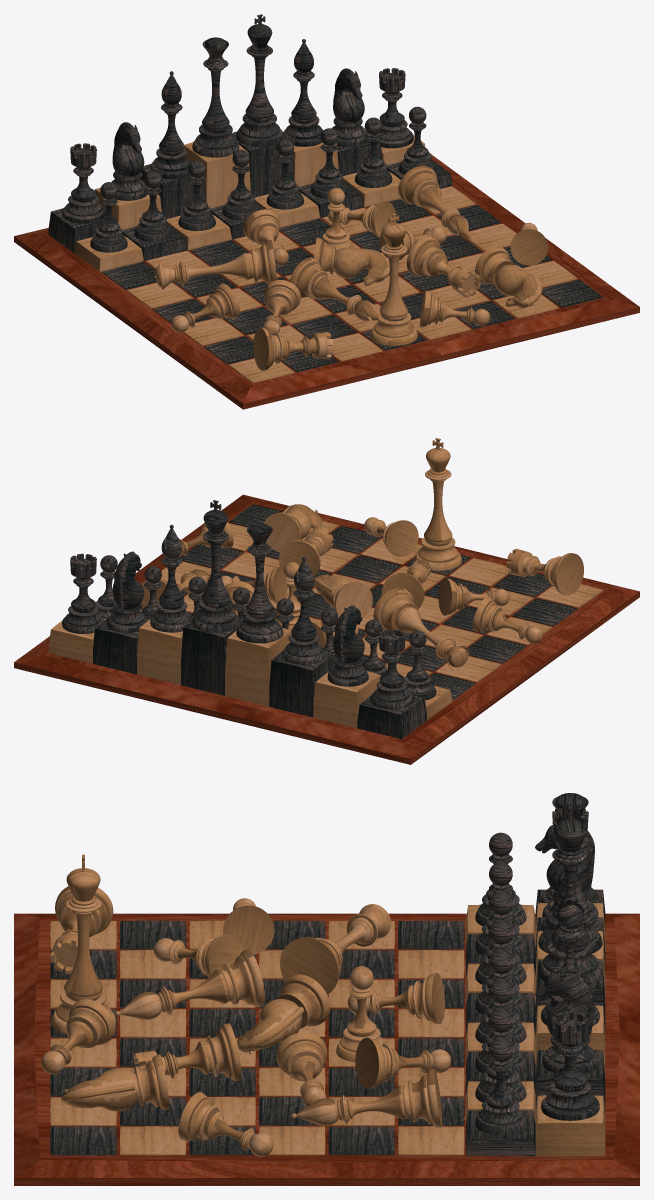
File: chess.glb
3 views of the same model, one above another, from view 1: azimuth 30°, elevation 25°; view 2: azimuth 150°, elevation 25°; view 3: azimuth 270°, elevation 25° (orthographic). The views are drawn at different scales.
Parts seen in each view (by area): view 1: Cube.045, King.001, King.Black.001, Queen.Black.001, Knight.002, Queen.001, Knight.Black.001, Knight.Black.002, Knight.001, Bishop.Black.002, Bishop.001, Rook.001 (+63 smaller); view 2: Cube.045, Cube.003, King.Black.001, Cube.062, King.001, Cube.030, Queen.Black.001, Queen.001, Cube, Cube.007, Knight.Black.002, Bishop.Black.002 (+45 smaller); view 3: Cube.045, Queen.001, Bishop.002, King.001, Knight.001, Bishop.001, Rook.Black.001, Knight.002, King.Black.001, Knight.Black.001, Cube.004, Rook.001 (+71 smaller).
Part boxes in pixels (x1,y1,x2,y2): Cube.045: (14, 154, 639, 409); King.001: (370, 213, 417, 345); King.Black.001: (236, 14, 283, 146); Queen.Black.001: (192, 37, 239, 157); Knight.002: (475, 246, 542, 307); Queen.001: (154, 240, 276, 289); Knight.Black.001: (332, 68, 367, 147); Knight.Black.002: (111, 122, 147, 200); Knight.001: (314, 237, 389, 285); Bishop.Black.002: (150, 71, 190, 178); Bishop.001: (398, 165, 471, 238); Rook.001: (406, 236, 480, 297); Cube.045: (14, 494, 639, 764); Cube.003: (225, 628, 291, 706); King.Black.001: (192, 500, 239, 632); Cube.062: (181, 617, 244, 695); King.001: (414, 438, 461, 570); Cube.030: (269, 649, 335, 717); Queen.Black.001: (236, 523, 283, 643); Queen.001: (373, 587, 468, 669); Cube: (137, 617, 192, 685); Cube.007: (313, 671, 380, 728); Knight.Black.002: (327, 605, 368, 686); Bishop.Black.002: (282, 557, 325, 664); Cube.045: (14, 913, 639, 1185); Queen.001: (280, 904, 390, 994); Bishop.002: (115, 949, 264, 1019); King.001: (51, 854, 115, 1033); Knight.001: (237, 974, 330, 1053); Bishop.001: (291, 1069, 442, 1127); Rook.Black.001: (541, 1011, 599, 1120); Knight.002: (61, 1054, 169, 1111); King.Black.001: (538, 805, 602, 982); Knight.Black.001: (535, 967, 598, 1073); Cube.004: (535, 1095, 605, 1156); Rook.001: (134, 1023, 241, 1081).
Size of the model in its own units: 7.2 by 3.32 by 7.2.
96 materials, 96 textured.
